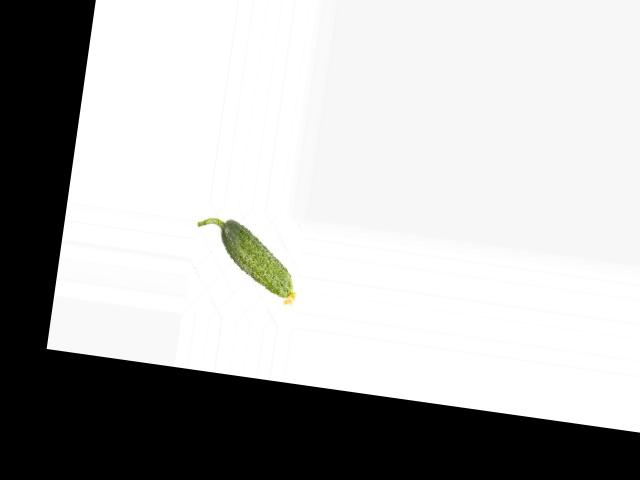cucumber: (189, 214, 306, 307)
